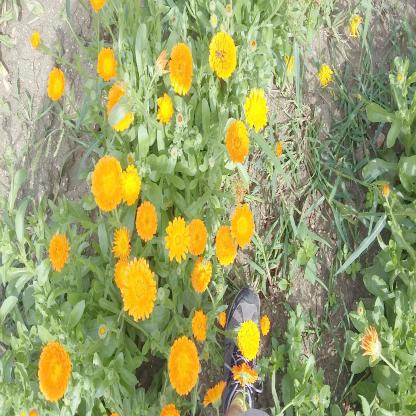marigold: (121, 256, 156, 323), (38, 340, 72, 402), (167, 334, 200, 396), (90, 154, 124, 213), (106, 79, 135, 131), (167, 43, 194, 97), (209, 30, 236, 80), (164, 216, 190, 264), (230, 201, 255, 249), (243, 86, 268, 132), (225, 119, 249, 163), (134, 199, 158, 243), (236, 319, 260, 361), (120, 162, 142, 207), (48, 232, 70, 274), (215, 225, 238, 265), (191, 255, 212, 294), (96, 45, 118, 82), (231, 361, 258, 389), (187, 218, 207, 255), (113, 225, 132, 262), (203, 379, 226, 408), (47, 66, 65, 102), (114, 256, 132, 292), (190, 306, 208, 342), (156, 92, 174, 124)
